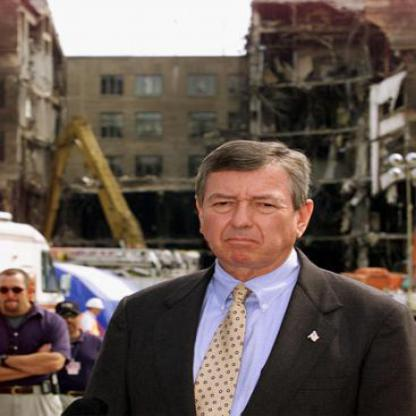face: (200, 143, 303, 268), (1, 271, 31, 314), (60, 306, 81, 333)
